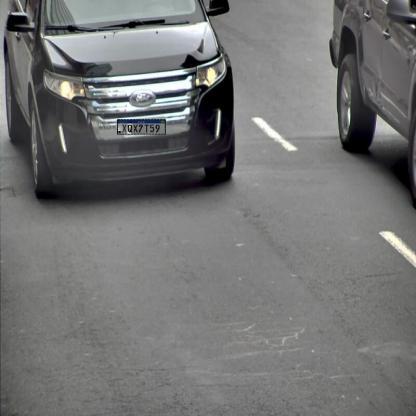PlacaM: (117, 119, 166, 135)
